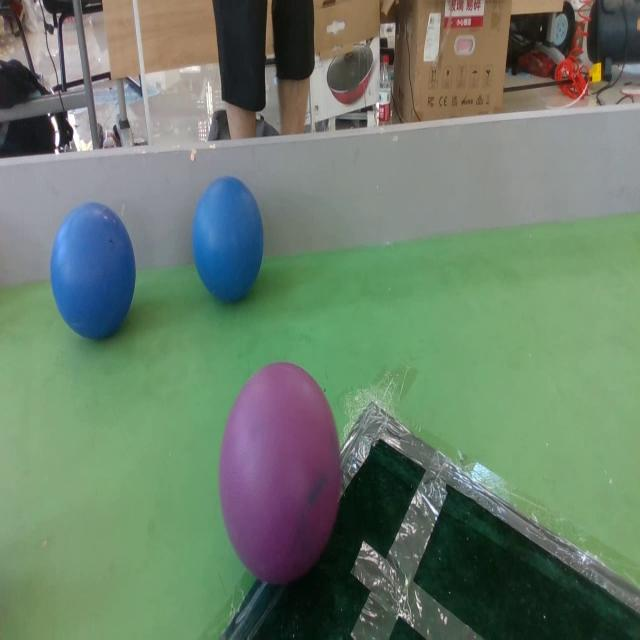blue: (50, 200, 136, 340), (191, 176, 265, 302)
invalid: (217, 362, 341, 579)
